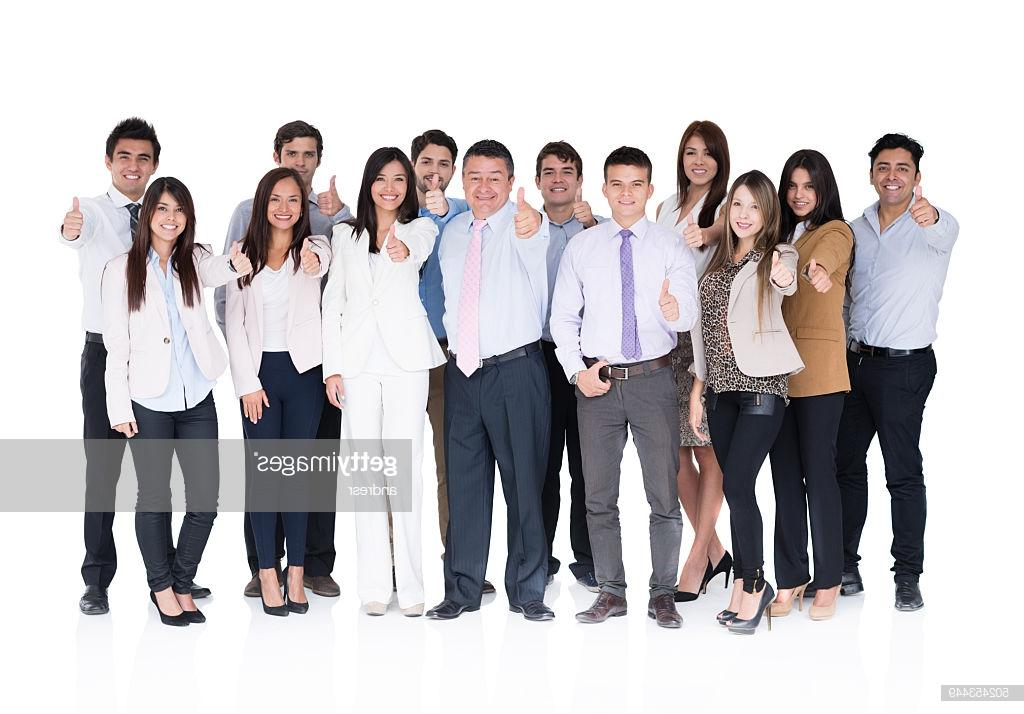thumbsup: (515, 187, 539, 238), (909, 186, 934, 227), (807, 258, 833, 294), (658, 278, 679, 321), (425, 174, 445, 214), (317, 175, 337, 215), (771, 251, 793, 286), (64, 197, 83, 236), (232, 240, 253, 274), (300, 238, 319, 275), (683, 213, 703, 248), (573, 188, 593, 223), (386, 224, 404, 262)
